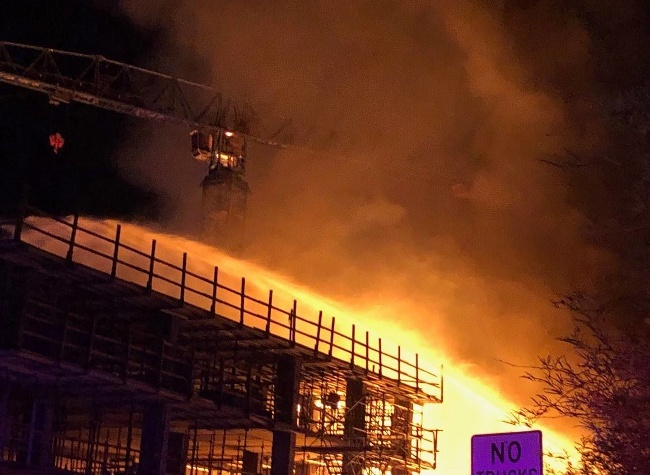Fire: (453, 373, 511, 430)
Smoke: (191, 28, 575, 238)
